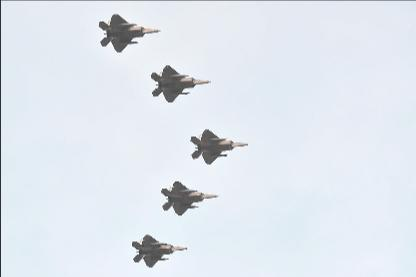F18: (98, 13, 160, 51), (150, 64, 210, 102), (190, 128, 249, 164), (160, 181, 218, 215), (130, 234, 188, 266)
